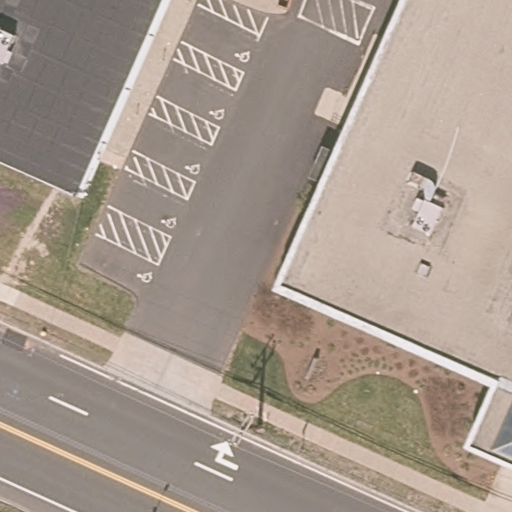DT: (231, 411, 258, 442)
